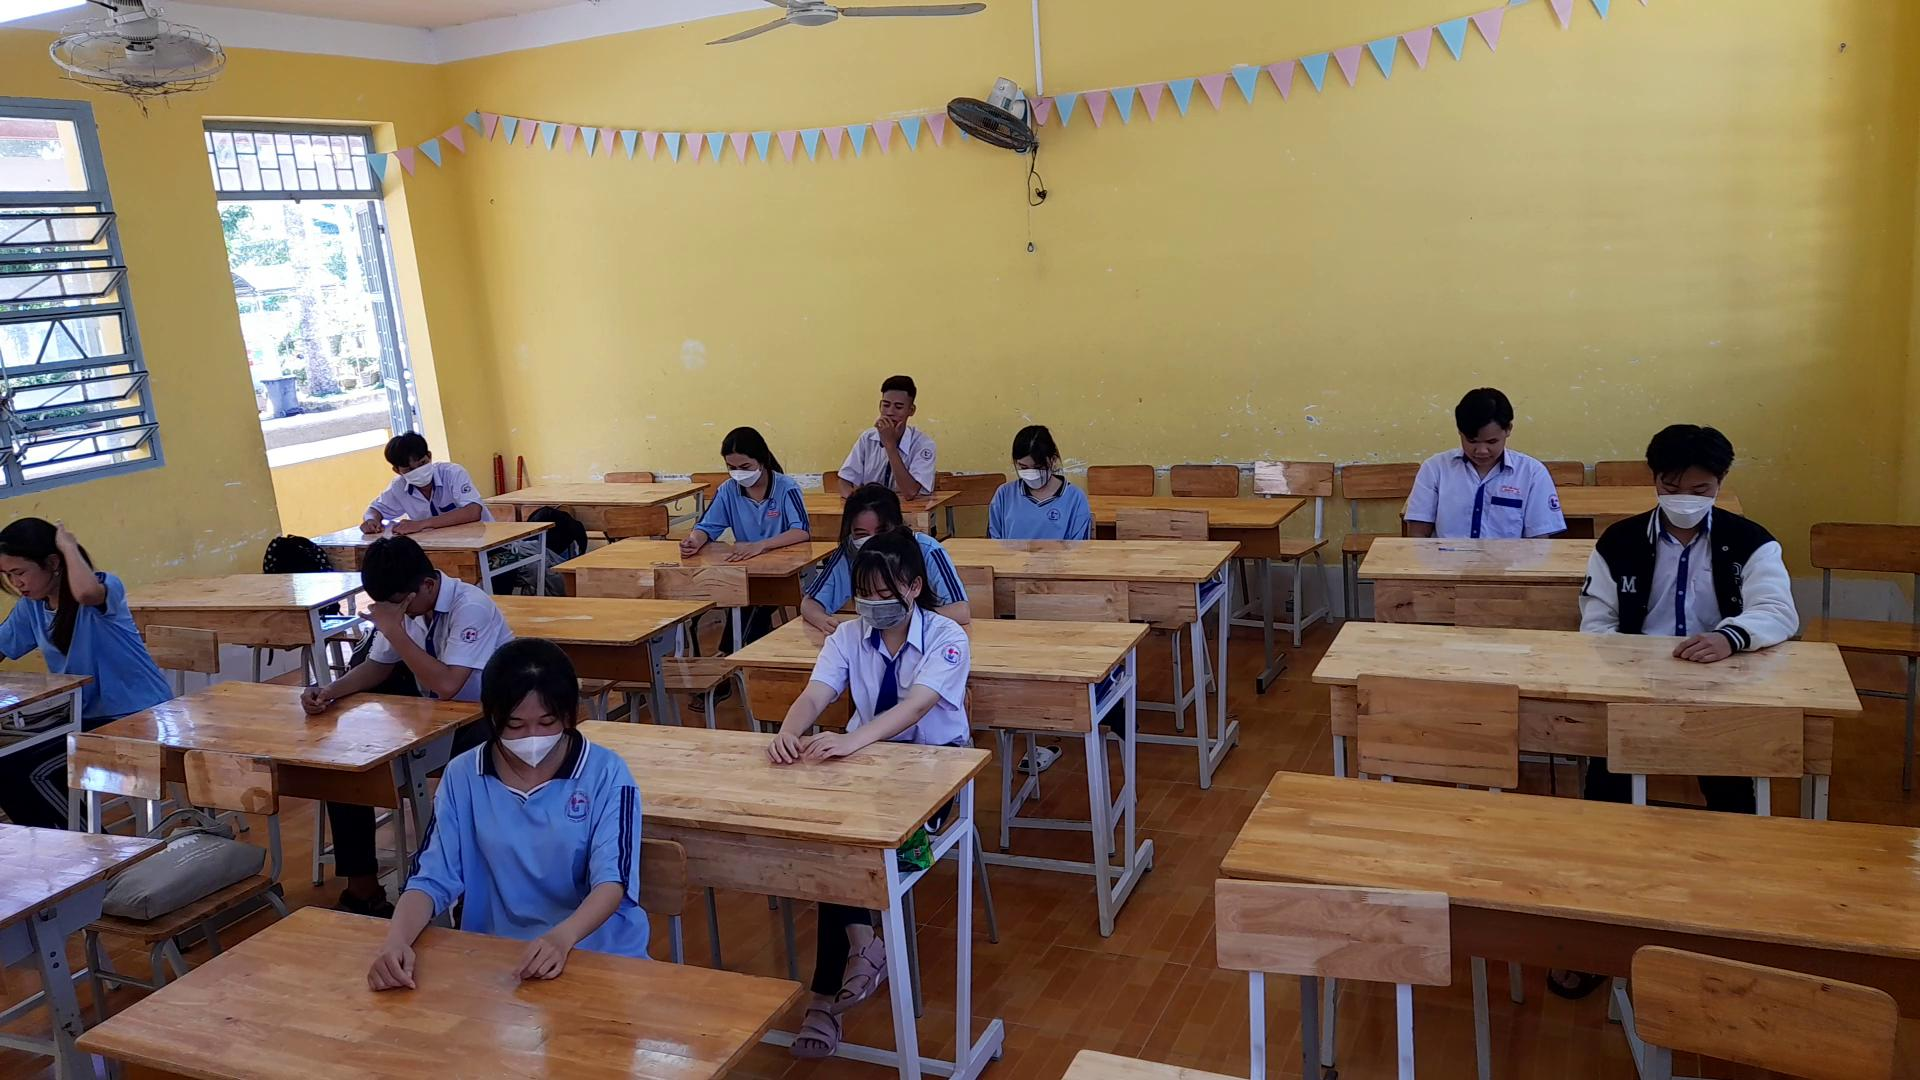Bend Over The Desk: (464, 630, 591, 771), (1635, 417, 1735, 533), (1437, 378, 1526, 469), (356, 531, 444, 621), (984, 409, 1072, 498)
Hand Under Table: (1577, 509, 1634, 647), (1396, 442, 1443, 549), (1520, 454, 1567, 560), (1063, 485, 1097, 553), (976, 476, 1006, 546)
Look Around: (363, 419, 447, 496)
Normal: (770, 520, 975, 760), (676, 425, 814, 559)
Wave: (363, 593, 479, 702), (51, 524, 128, 621), (872, 407, 926, 496)
